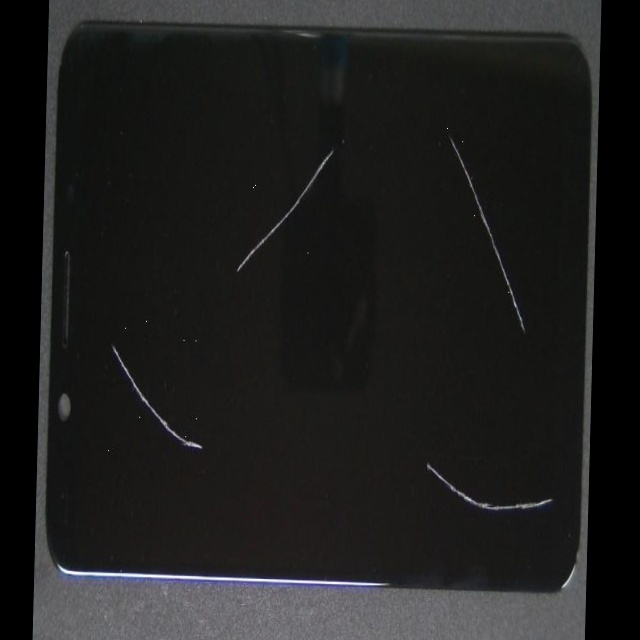scratch: (198, 0, 602, 304), (135, 80, 331, 427), (162, 259, 247, 605)
